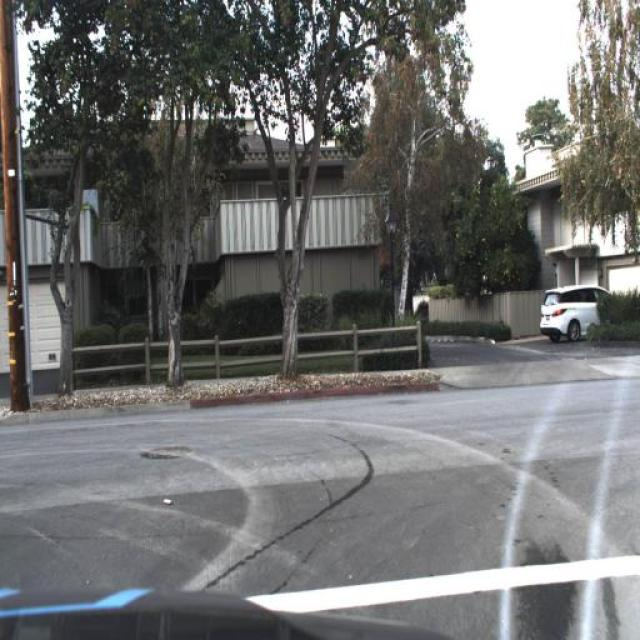car: (536, 282, 614, 343), (540, 284, 620, 340)
